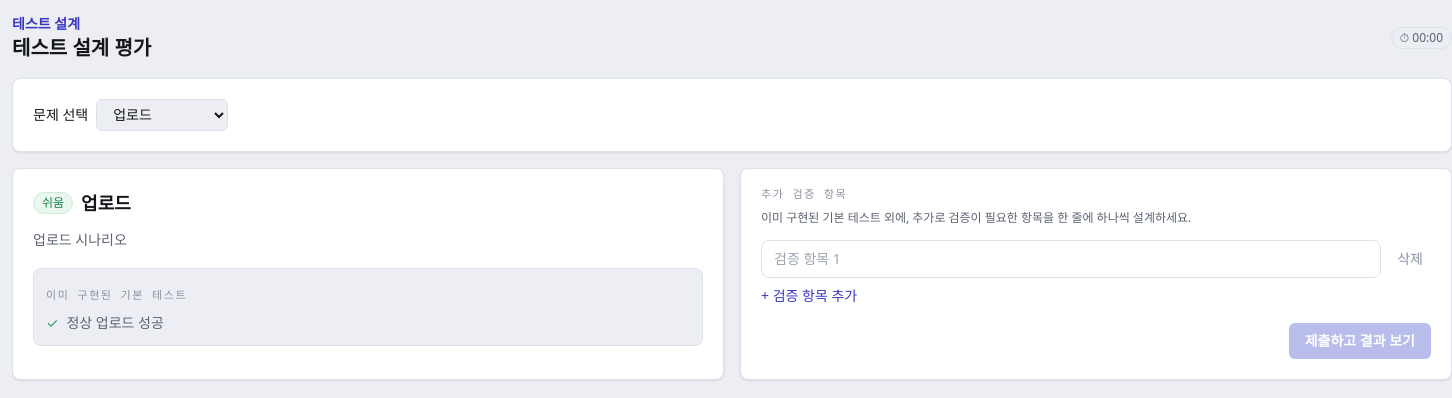
Scenario: TestDesignPage › groups problems by difficulty and switches the brief on selection
Expected: the text "업로드 시나리오" is shown, [33,230,127,249]
Expected: the text "이미 구현된 기본 테스트" is shown, [46,289,187,302]
# selecting a hard problem swaps the brief
Step 1. Select "재고" in the dropdown labelled "문제 선택" → [162, 115], box [96,99,228,131]
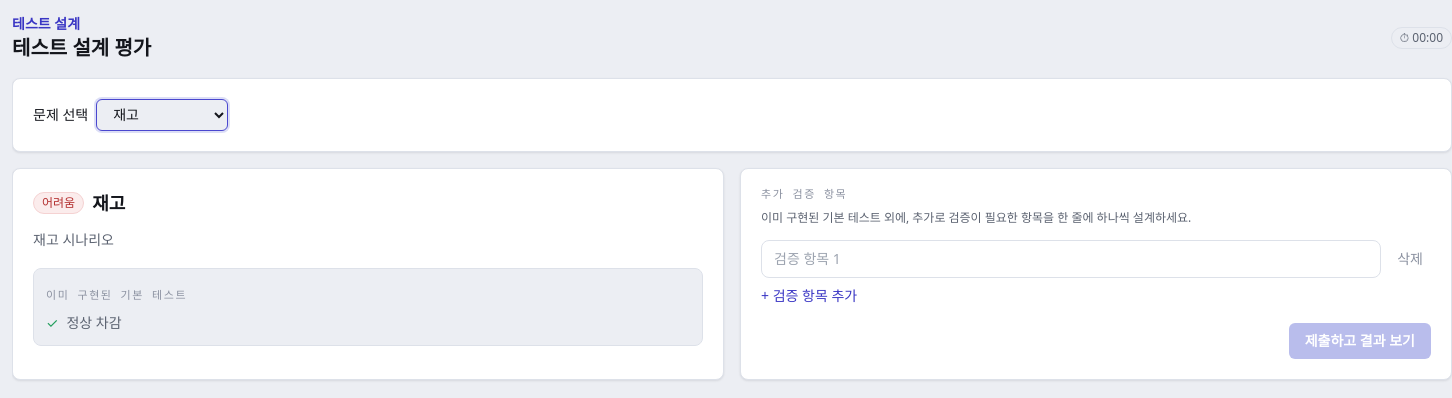
Now the text "재고 시나리오" is shown, box [33,230,114,249]
